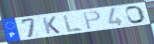4: (107, 7, 125, 27)
7: (20, 17, 37, 39)
K: (42, 16, 62, 35)
L: (62, 14, 84, 34)
O: (124, 5, 147, 25)
P: (82, 10, 102, 31)
